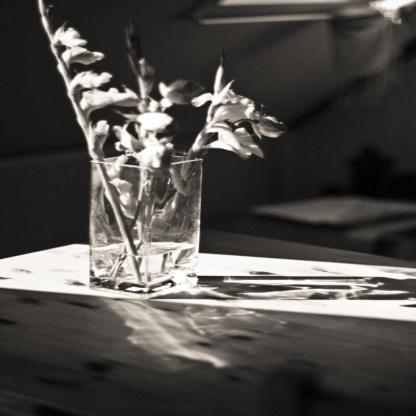vase: (89, 154, 203, 296)
